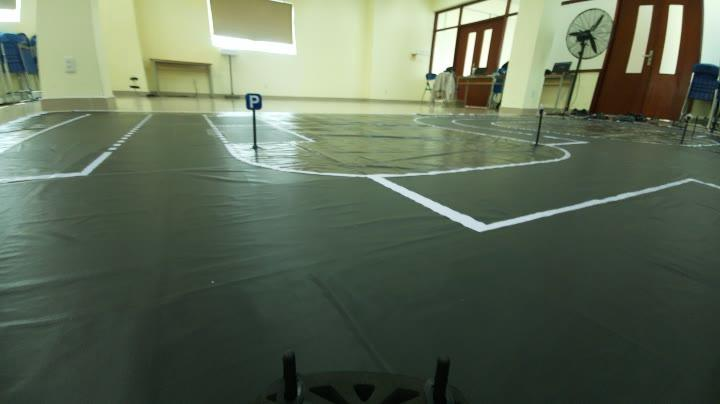parking: (236, 92, 264, 111)
